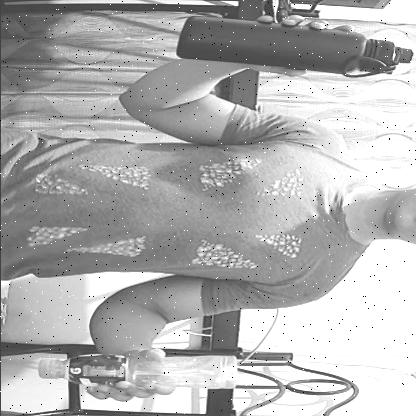Plastic Bottle: (9, 333, 250, 407)
